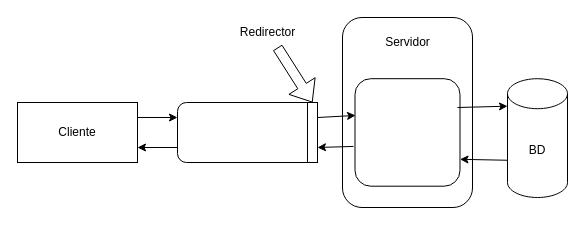
This 585x225 diagram has some shape labels left out. Each missing label, with the centre of its shape:
"Servidor de aplicaciones" goes at [407,132].
"Servidor Web Externo" goes at [247,132].
